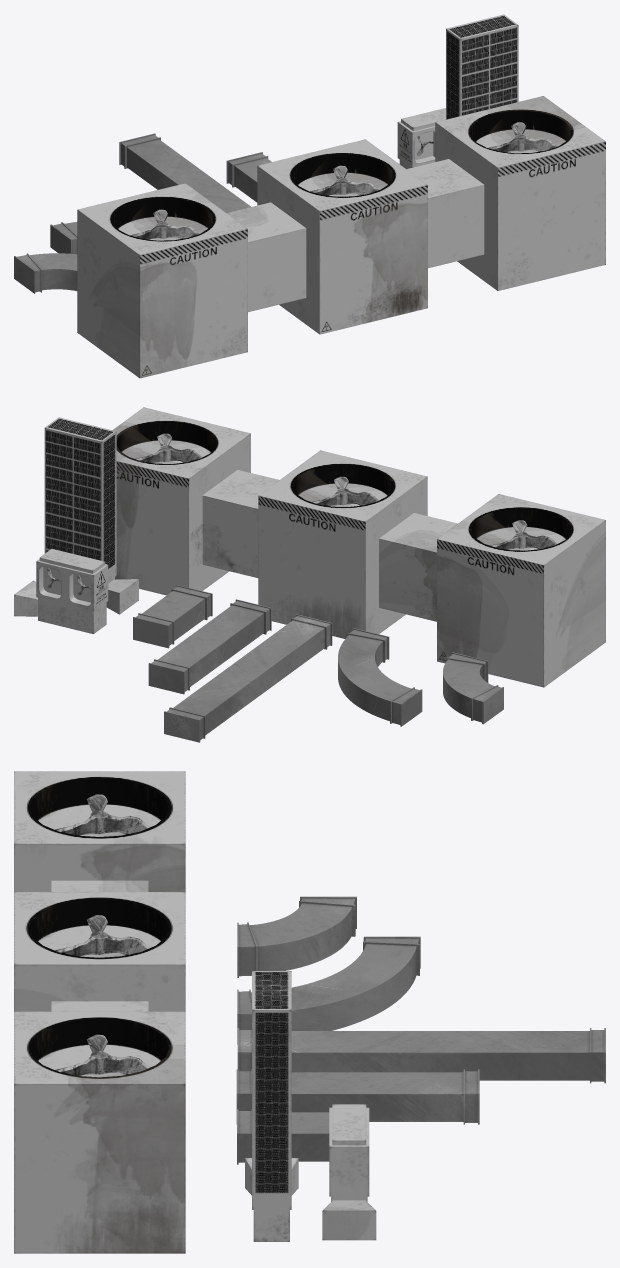
3 views of the same model, one above another, from view 1: azimuth 30°, elevation 25°; view 2: azimuth 150°, elevation 25°; view 3: azimuth 270°, elevation 25° (orthographic). The views are drawn at different scales.
Visible parts, largest first — view 1: Object_2, Object_3, Object_4; view 2: Object_2, Object_3, Object_4; view 3: Object_2, Object_3, Object_4.
Part boxes in pixels (bbox=[...]): Object_2: bbox=[77, 14, 605, 378]; Object_3: bbox=[14, 133, 271, 293]; Object_4: bbox=[130, 122, 556, 239]; Object_2: bbox=[14, 407, 605, 687]; Object_3: bbox=[133, 585, 503, 742]; Object_4: bbox=[47, 433, 556, 595]; Object_2: bbox=[14, 771, 376, 1253]; Object_3: bbox=[236, 896, 605, 1164]; Object_4: bbox=[55, 794, 149, 1075].
Bounding box in the file's own units: 32.92 × 11.89 × 26.26.
Materials: 3 (3 with a texture image).
